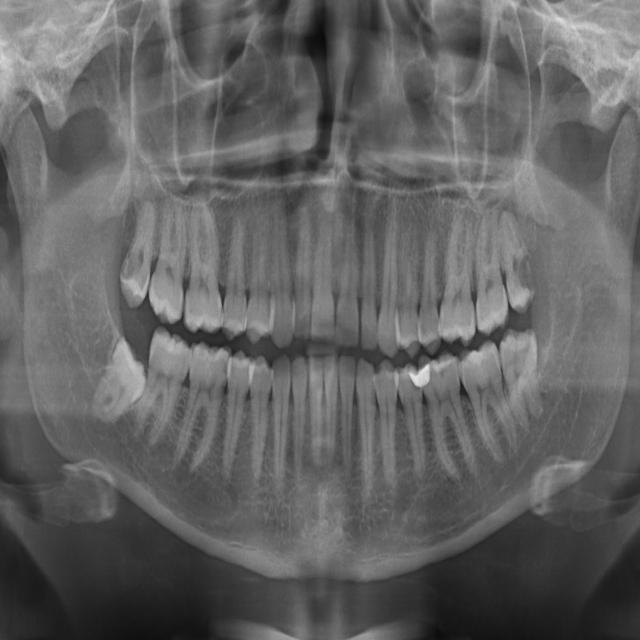CompositeResinRestoration: (410, 362, 435, 388)
Crown: (414, 382, 425, 396)
DentalCaries: (515, 253, 531, 295), (119, 252, 139, 282), (436, 360, 446, 388), (221, 358, 230, 380)
ImpactedTooth: (98, 339, 142, 429)
